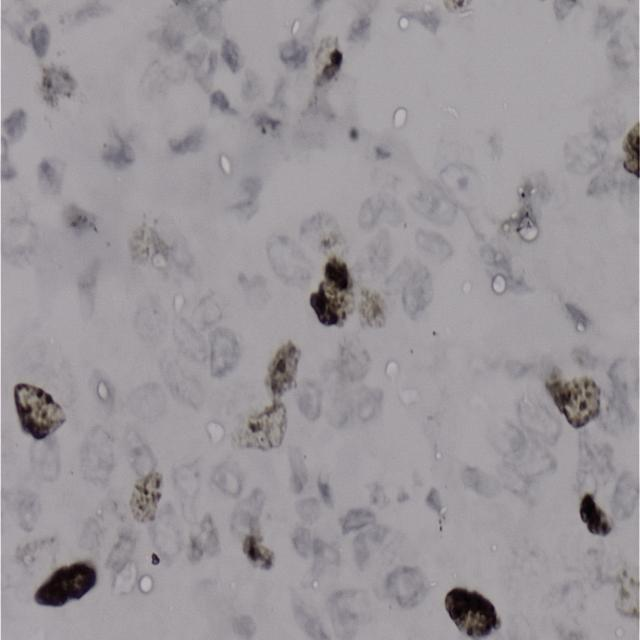Healthy cell: (596, 0, 640, 83), (159, 348, 209, 414), (0, 210, 40, 290), (288, 532, 354, 580), (544, 571, 588, 640), (378, 563, 434, 617), (579, 158, 638, 206), (610, 348, 640, 442), (560, 120, 610, 176), (268, 233, 316, 291), (328, 581, 369, 640), (232, 484, 280, 534), (5, 476, 47, 533), (210, 462, 253, 516), (348, 6, 392, 57), (403, 175, 448, 222), (484, 416, 528, 464), (80, 430, 112, 495), (147, 0, 188, 50), (206, 323, 239, 385), (33, 433, 70, 485), (77, 508, 109, 568), (34, 146, 66, 203), (443, 159, 481, 207), (0, 184, 42, 227), (292, 379, 325, 433), (96, 129, 142, 167), (134, 293, 166, 346), (352, 379, 382, 435), (459, 463, 502, 501), (333, 502, 385, 532), (138, 59, 172, 104), (362, 226, 388, 284), (130, 379, 168, 418), (412, 226, 451, 263), (194, 0, 227, 40), (616, 469, 640, 518), (189, 293, 219, 331), (353, 194, 385, 229), (167, 462, 189, 512), (219, 34, 246, 74), (327, 392, 354, 431), (132, 442, 168, 471), (279, 459, 304, 498), (30, 20, 55, 58), (0, 138, 20, 185), (279, 37, 310, 64), (1, 104, 27, 136), (206, 86, 234, 114), (300, 488, 316, 532), (550, 0, 576, 27)
cancer-cell-QiJm: (533, 363, 609, 432), (234, 395, 302, 460), (10, 376, 68, 440), (444, 584, 508, 640), (298, 209, 358, 262), (120, 212, 168, 276), (32, 566, 100, 611), (37, 56, 89, 114), (388, 259, 436, 319), (308, 283, 356, 339), (572, 433, 615, 495), (102, 530, 140, 599), (262, 336, 298, 396), (307, 34, 345, 90), (126, 472, 164, 528), (354, 283, 390, 336), (243, 533, 281, 579), (15, 533, 63, 566), (339, 340, 377, 380), (580, 493, 615, 536), (619, 119, 640, 187), (60, 209, 105, 240), (249, 106, 289, 140), (200, 512, 225, 564), (616, 572, 640, 619), (366, 146, 406, 172), (343, 113, 364, 158), (324, 259, 358, 285), (439, 0, 476, 17), (187, 532, 199, 563), (150, 546, 162, 570)
